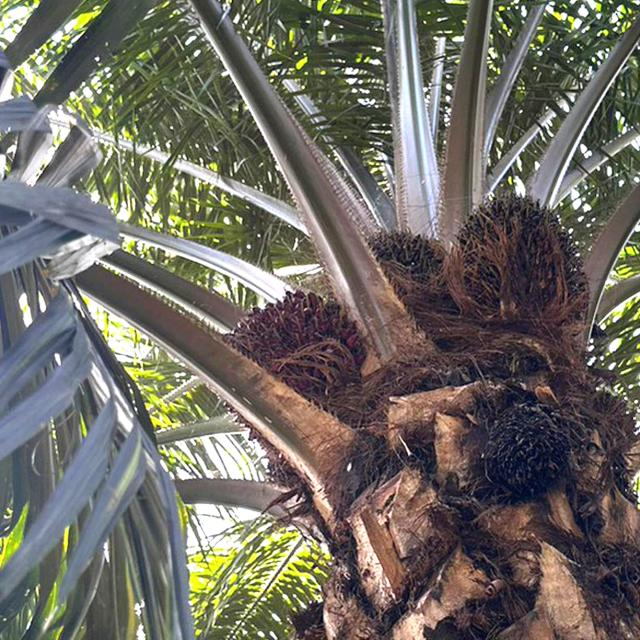ripe: (442, 186, 594, 324), (225, 280, 368, 382), (363, 217, 448, 301)
